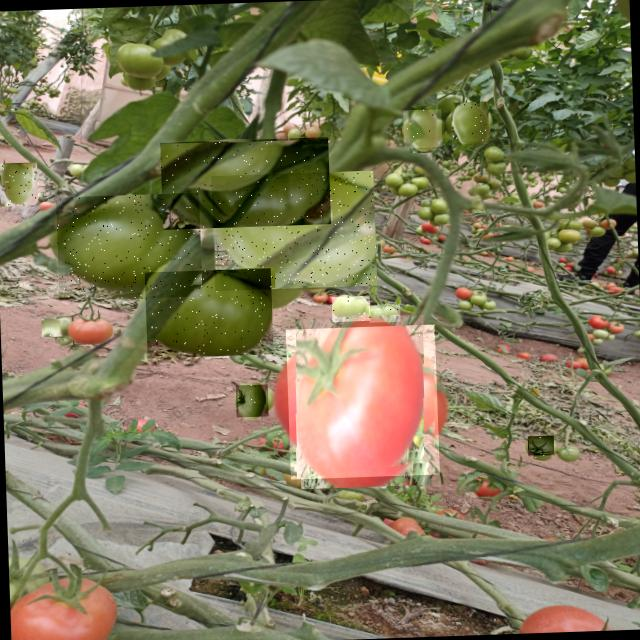Ripe Tomato: (286, 324, 440, 479)
Unripe Tomato: (211, 170, 377, 291), (160, 136, 330, 230), (56, 192, 202, 301), (144, 268, 273, 358), (0, 163, 38, 206), (450, 102, 490, 142), (403, 109, 442, 148), (236, 384, 268, 417), (331, 296, 370, 322), (368, 304, 401, 322), (527, 436, 554, 458), (41, 318, 66, 337)
